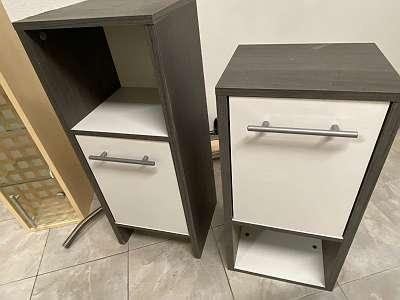cabinet_door: (229, 100, 368, 233), (93, 140, 182, 228)
handle: (242, 119, 360, 140), (87, 149, 159, 167)
